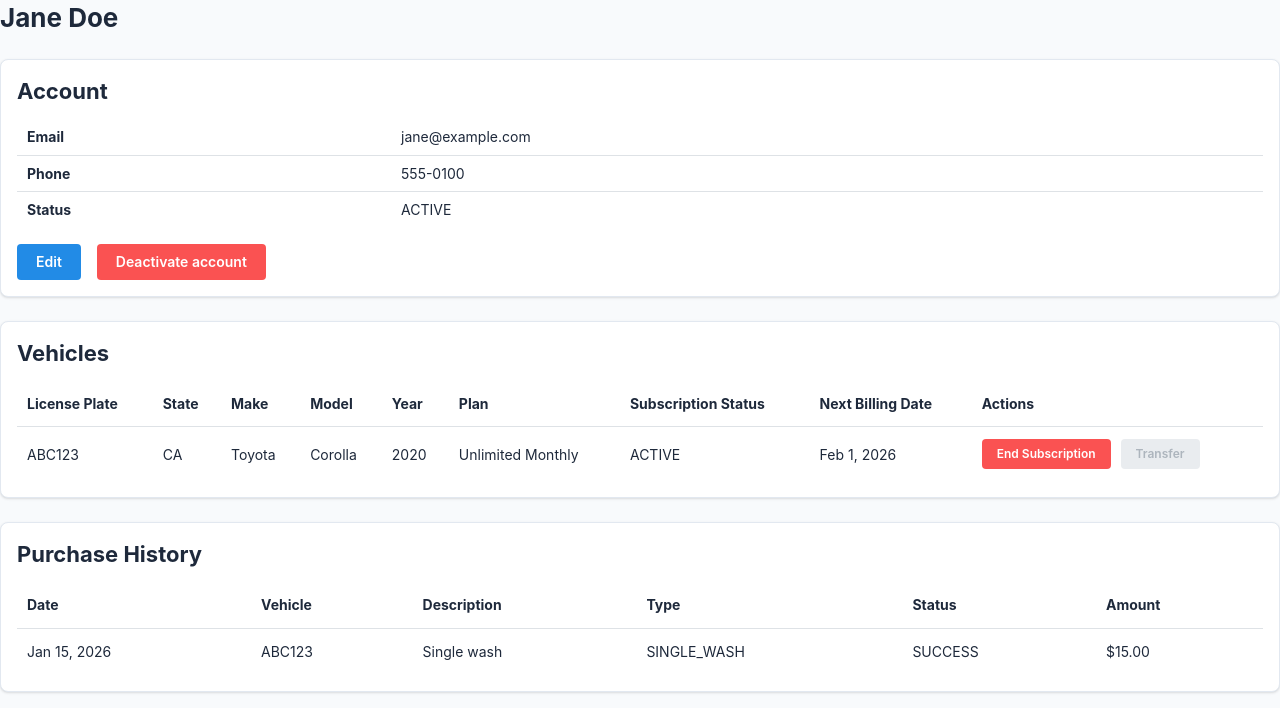
Test case: UserProperties › editing account information › shows editable inputs pre-filled with the current name, email, and phone when Edit is clicked
Expected: the heading "Jane Doe" is shown, top-left (0, 2), bottom-right (118, 33)
Click the button "Edit" at (49, 262), box top-left (17, 244), bottom-right (81, 280)
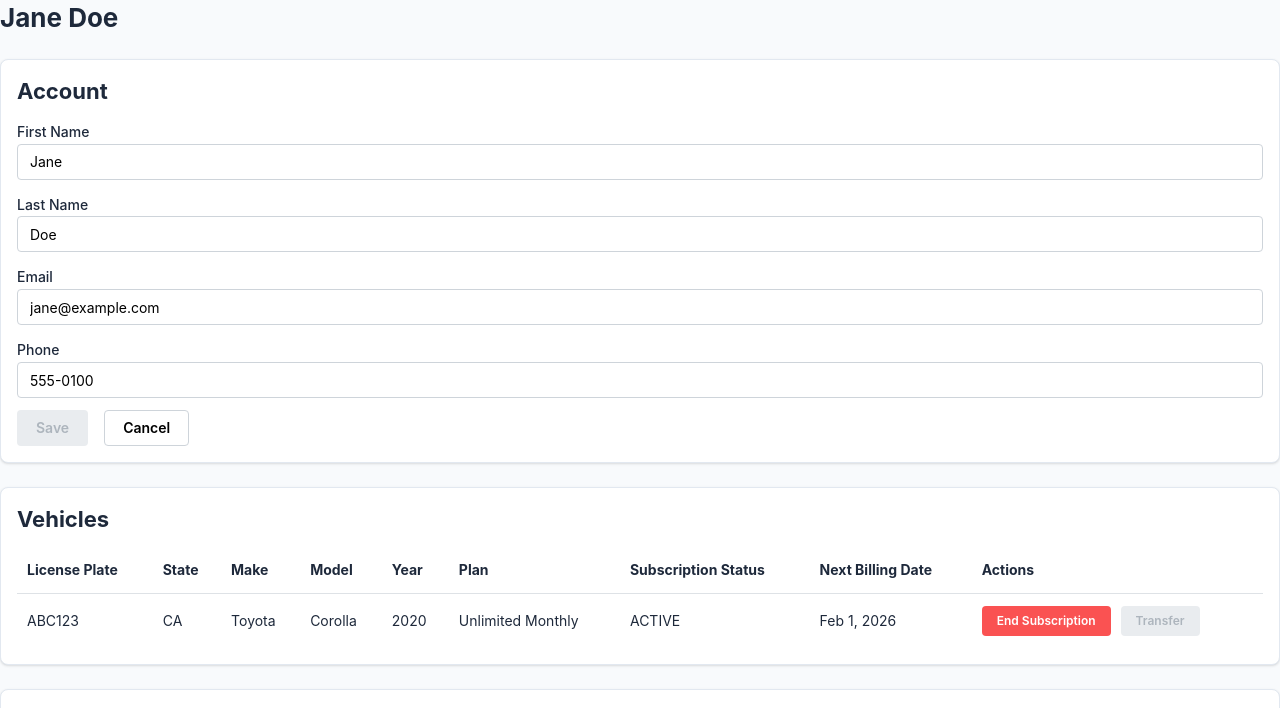
Expected: the field labelled "First Name" holds "Jane", top-left (17, 144), bottom-right (1263, 180)
Expected: the field labelled "Last Name" holds "Doe", top-left (17, 216), bottom-right (1263, 252)
Expected: the field labelled "Email" holds "jane@example.com", top-left (17, 289), bottom-right (1263, 325)
